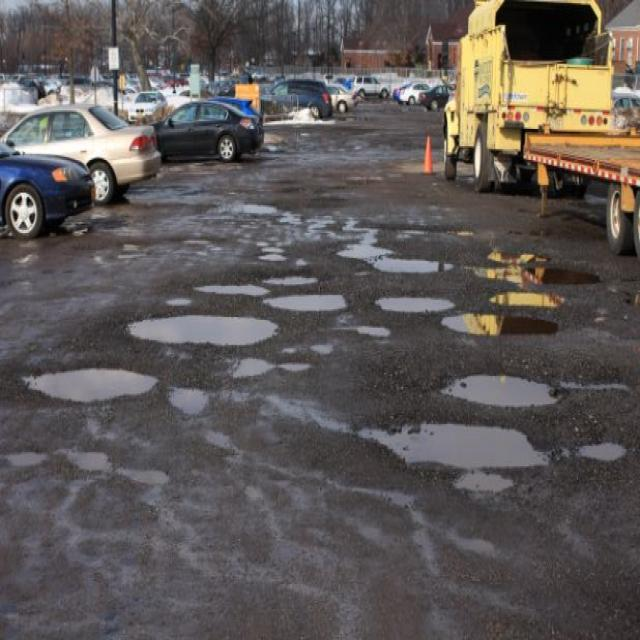pothole: (351, 413, 553, 497), (120, 298, 279, 351), (18, 346, 160, 401), (439, 367, 561, 410), (436, 306, 559, 342), (368, 289, 458, 314), (261, 287, 348, 311), (374, 254, 454, 276), (193, 278, 270, 297), (574, 434, 630, 458)
